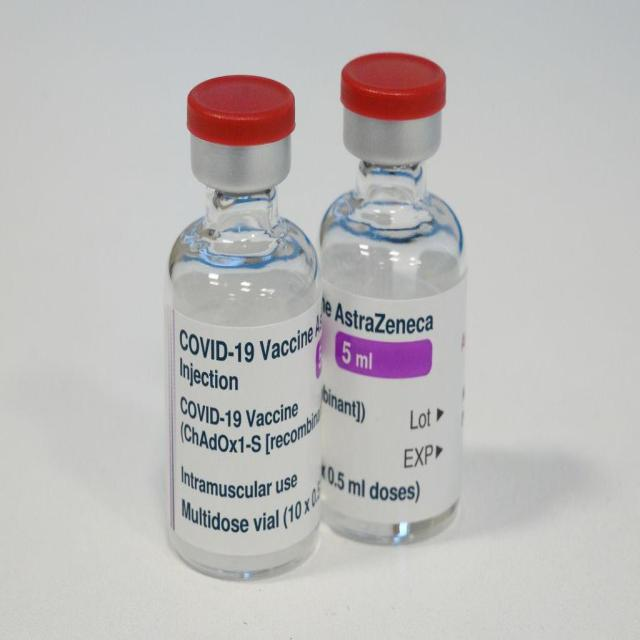B3: (158, 67, 330, 588), (317, 44, 475, 551)
